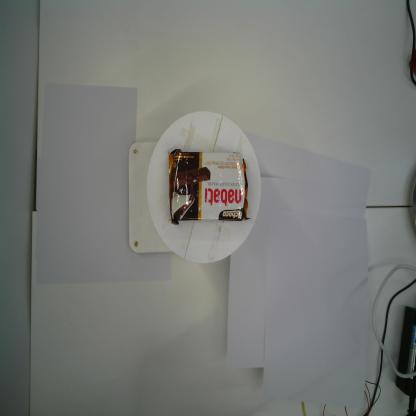Dessert: (167, 146, 252, 226)
